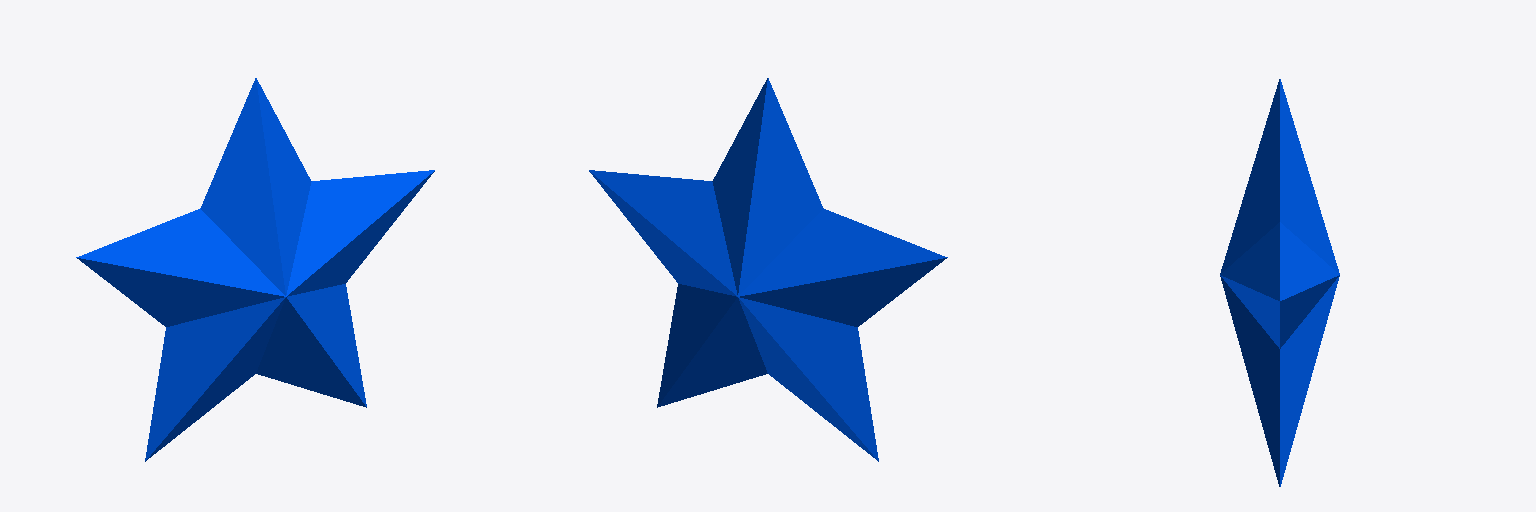
File: Star_B.obj
The picture shows the model from 3 angles: view 1: azimuth 30°, elevation 25°; view 2: azimuth 150°, elevation 25°; view 3: azimuth 270°, elevation 25°; orthographic projection.
Visible parts, largest first — view 1: Star_B; view 2: Star_B; view 3: Star_B.
Boxes of the visible parts, box(x1,y1,x2,y2) form: Star_B: box(76, 78, 434, 461); Star_B: box(589, 78, 947, 461); Star_B: box(1220, 79, 1339, 486).
Size of the model in its own units: 19.02 by 18.09 by 5.51.